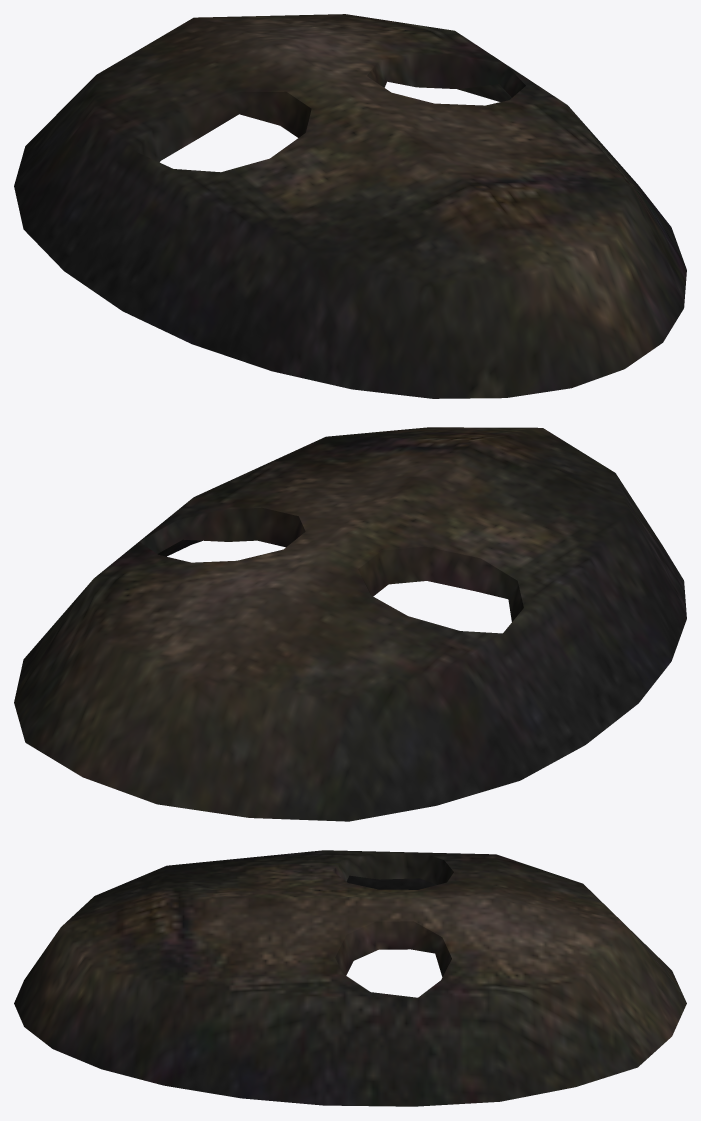
The model's file is mask_mx_3.obj.
The picture shows the model from 3 angles, top to bottom: view 1: azimuth 30°, elevation 25°; view 2: azimuth 150°, elevation 25°; view 3: azimuth 270°, elevation 25°; orthographic projection. The views are drawn at different scales.
Visible parts, largest first — view 1: mask_mx_3; view 2: mask_mx_3; view 3: mask_mx_3.
Boxes of the visible parts, x1,y1,x2,y2 form: mask_mx_3: [14, 14, 686, 398]; mask_mx_3: [14, 427, 686, 821]; mask_mx_3: [14, 850, 686, 1106].
Size of the model in its own units: 0.2322 by 0.0554 by 0.3198.
